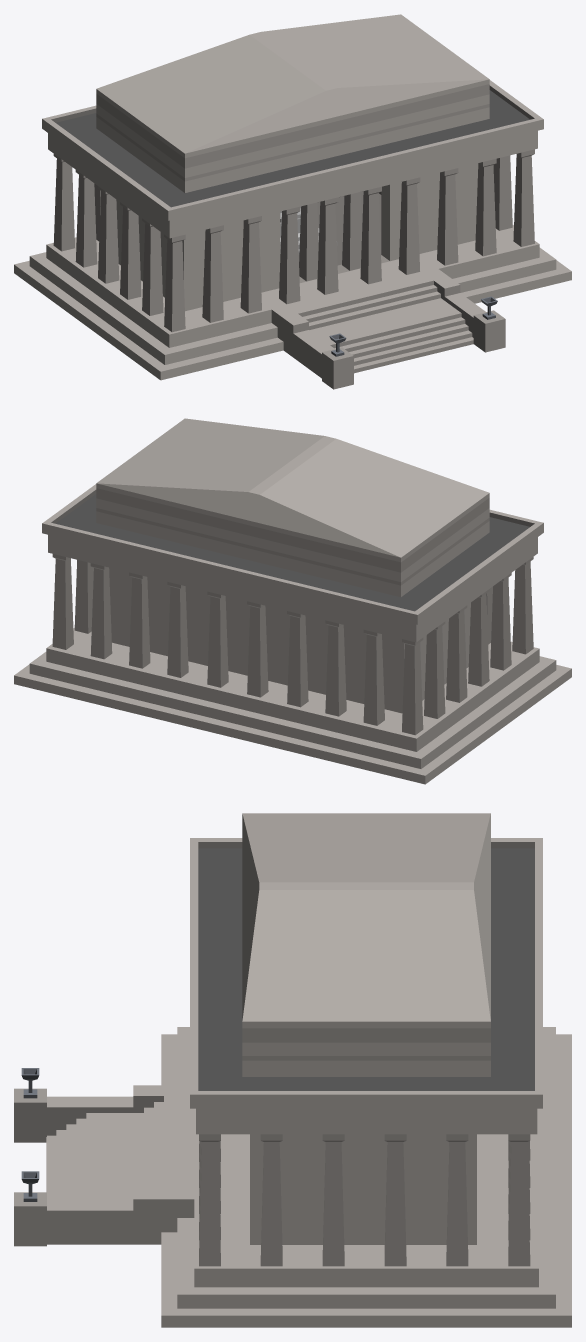
File: LicolnMemorial.fbx
3 renders of one model, top to bottom at view 1: azimuth 30°, elevation 25°; view 2: azimuth 150°, elevation 25°; view 3: azimuth 270°, elevation 25°, orthographic. The views are drawn at different scales.
Parts seen in each view (by area): view 1: LicolnMemorial; view 2: LicolnMemorial; view 3: LicolnMemorial.
Boxes of the visible parts, x1,y1,x2,y2 form: LicolnMemorial: (14, 14, 571, 389); LicolnMemorial: (14, 418, 571, 784); LicolnMemorial: (14, 813, 571, 1327).
Size of the model in its own units: 1261 by 630 by 1057.
